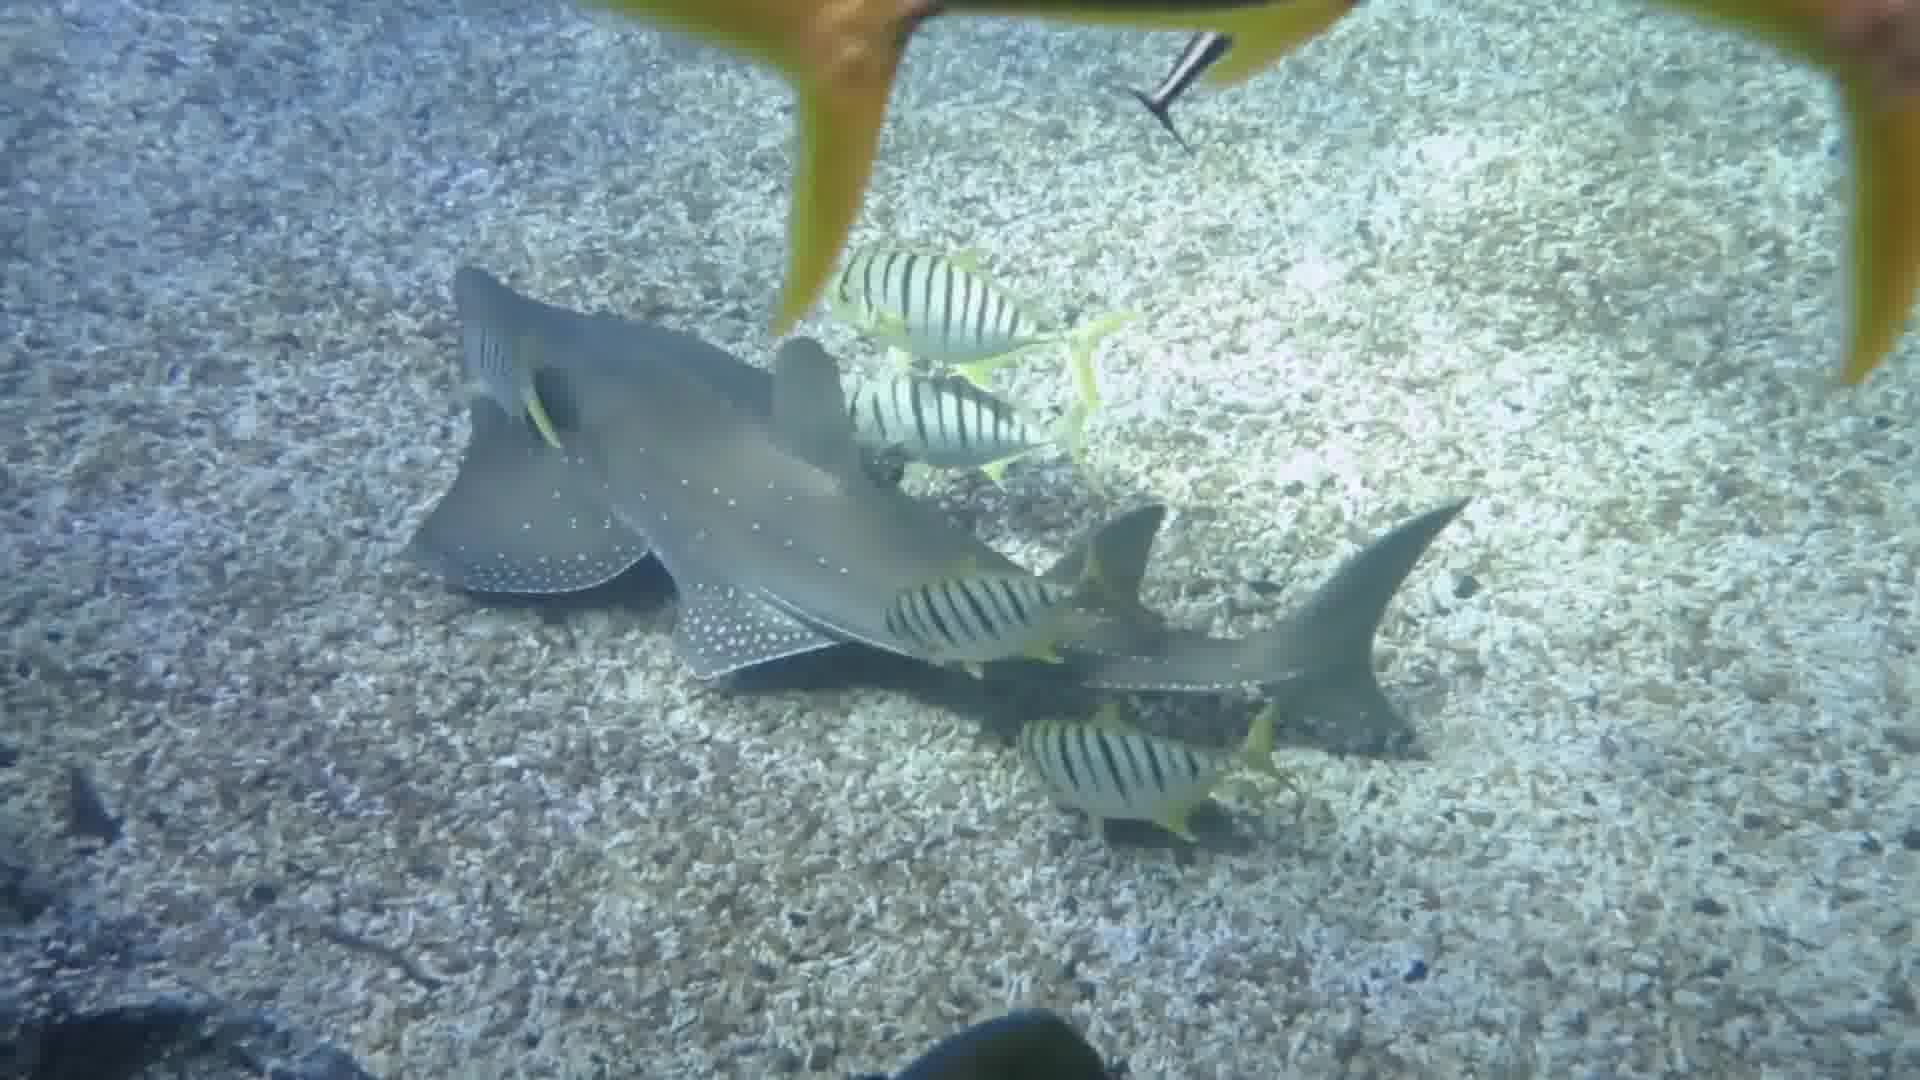Rhychobatus djiddensis: (414, 265, 1472, 757)
